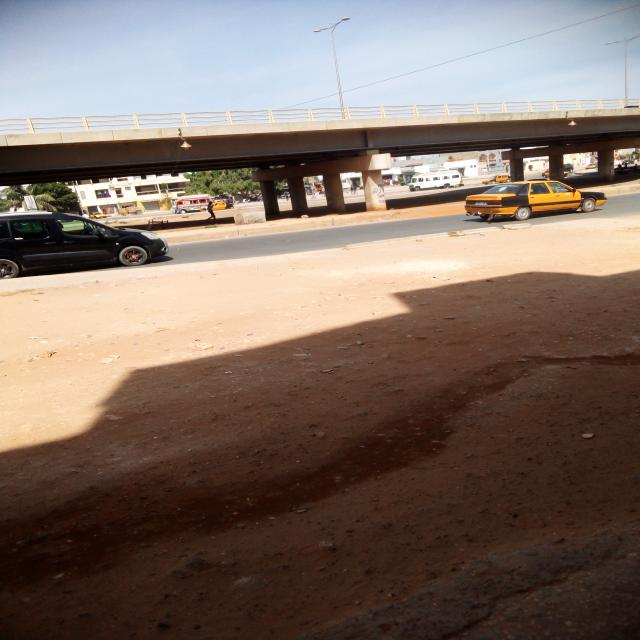car rapide: (174, 195, 213, 215)
ndiaga ndiaye: (409, 171, 463, 192), (208, 202, 218, 225)
particulier: (1, 212, 169, 280)
taxi: (466, 181, 608, 222), (484, 175, 511, 185), (213, 200, 234, 211), (91, 212, 108, 220), (586, 164, 598, 170)
